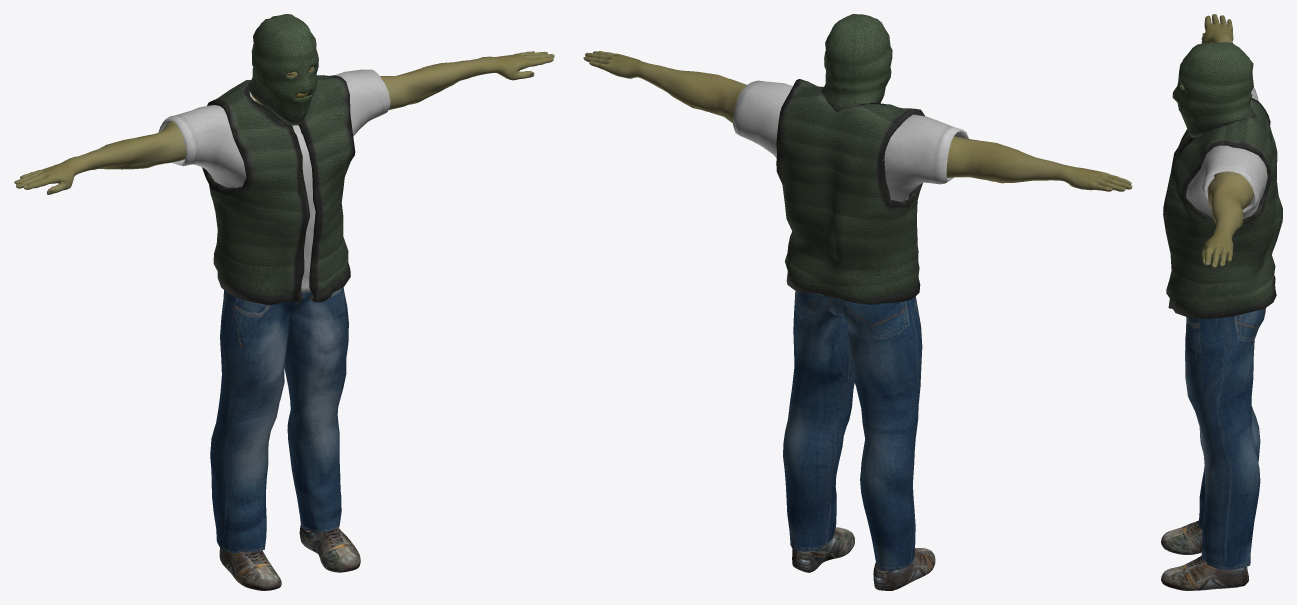
File: Ladron_final.fbx
3 renders of one model, left to right at view 1: azimuth 30°, elevation 25°; view 2: azimuth 150°, elevation 25°; view 3: azimuth 270°, elevation 25°, orthographic. The views are drawn at different scales.
Visible parts, largest first — view 1: ropa, cuerpo; view 2: ropa, cuerpo; view 3: ropa, cuerpo.
Part boxes in pixels (x1,y1,x2,y2): ropa: [158, 14, 390, 590]; cuerpo: [14, 27, 554, 194]; ropa: [733, 14, 968, 590]; cuerpo: [583, 23, 1132, 191]; ropa: [1161, 42, 1282, 590]; cuerpo: [1181, 14, 1254, 268].
Bounding box in the file's own units: 183 × 177 × 37.34.
